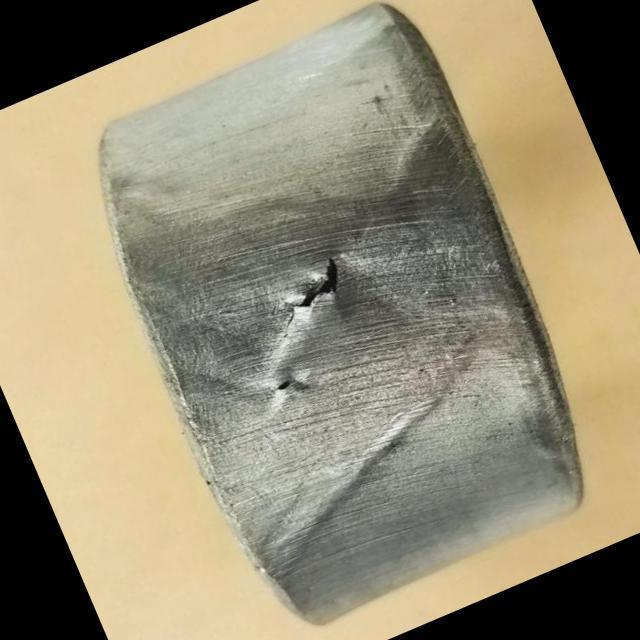defect: (279, 250, 346, 340)
